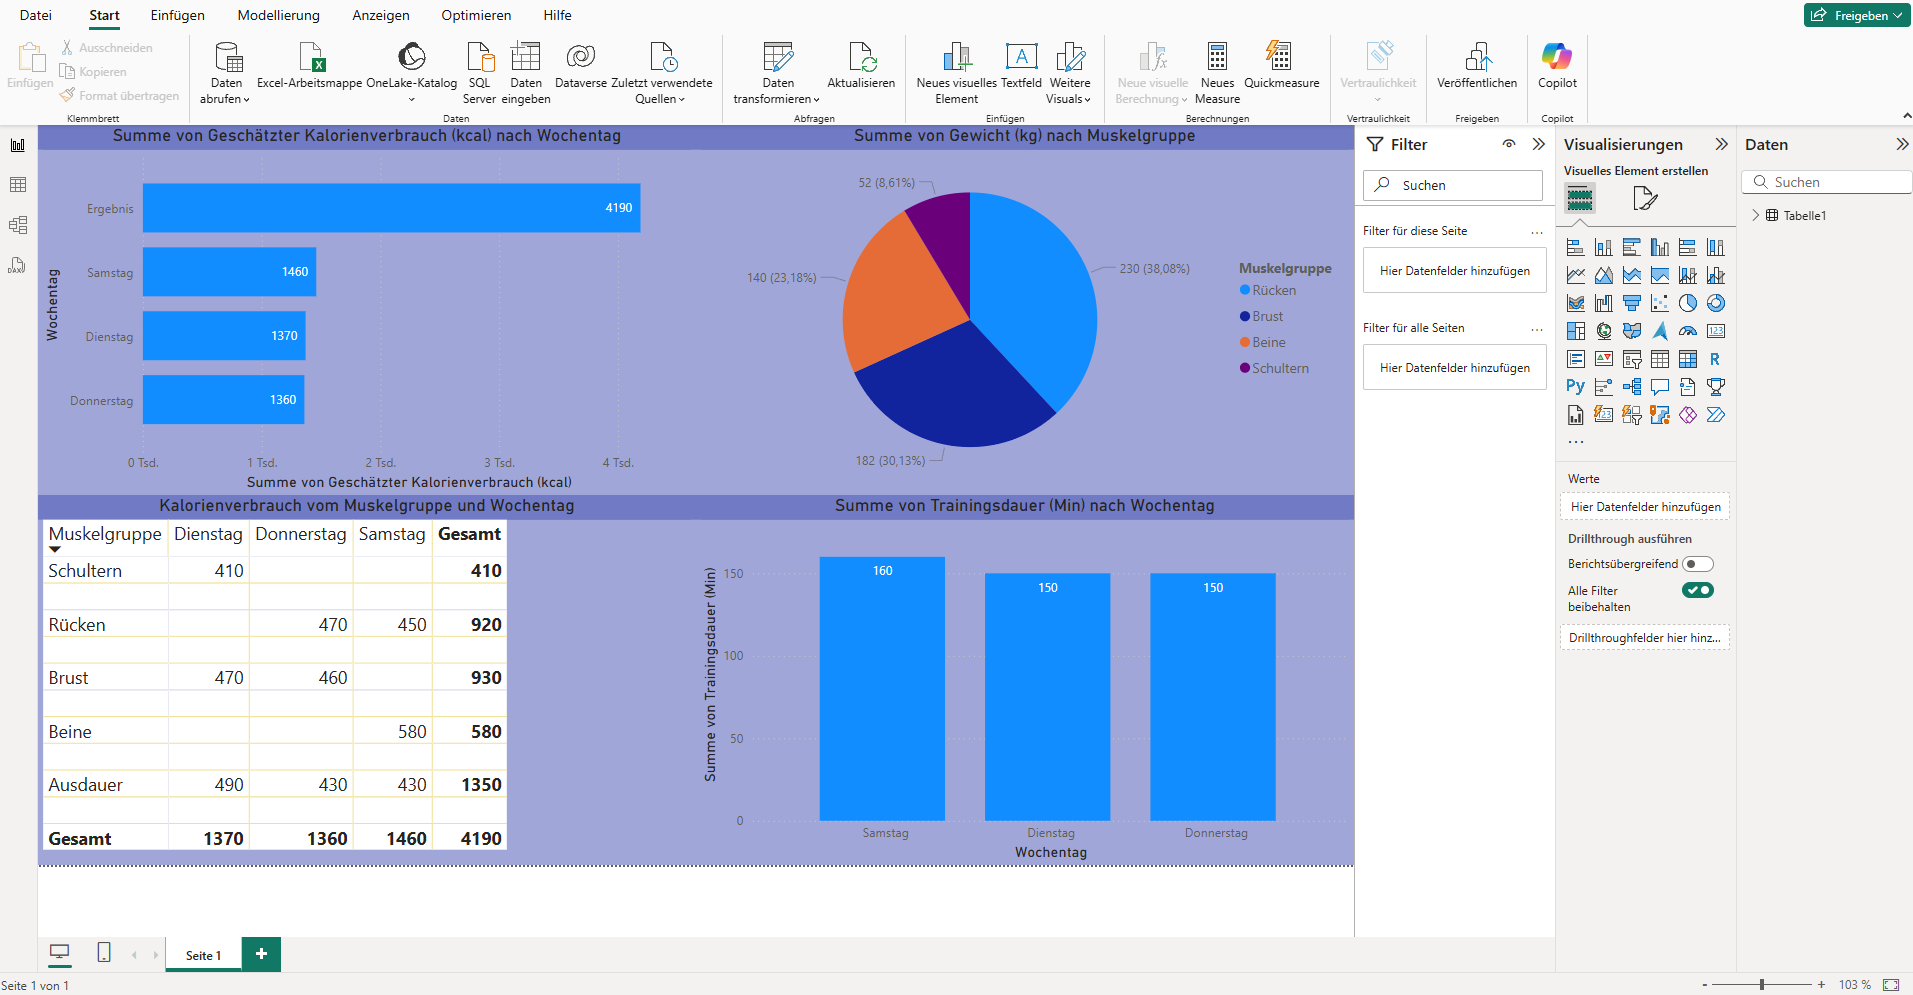

What the dashboard file says about the page in this screenshot:
{"tool":"powerbi","page":{"name":"Seite 1","canvas":[1280,720],"ordinal":0},"visuals":[{"type":"barChart","fields":{"Category":["Tabelle1.Wochentag"],"Y":["Sum(Tabelle1.Geschätzter Kalorienverbrauch (kcal))"]},"box":[0,0,640,359.9],"z":0},{"type":"pieChart","fields":{"Y":["Sum(Tabelle1.Gewicht (kg))"],"Category":["Tabelle1.Muskelgruppe"]},"box":[640,0,640,359.9],"z":1000},{"type":"pivotTable","title":"Kalorienverbrauch vom Muskelgruppe und Wochentag","fields":{"Rows":["Tabelle1.Muskelgruppe"],"Columns":["Tabelle1.Wochentag"],"Values":["Sum(Tabelle1.Geschätzter Kalorienverbrauch (kcal))"]},"box":[0,359.9,640,359.9],"z":2000},{"type":"columnChart","fields":{"Y":["Sum(Tabelle1.Trainingsdauer (Min))"],"Category":["Tabelle1.Wochentag"]},"box":[640,359.9,640,359.9],"z":3000}]}

Visuals, with their boxes on the page's 1280x720 design canvas (x1, y1, x2, y2). These are canvas units, not pixel positions in the 1913x995 screenshot, which may show the page scaled, cropped or inside an application window:
barChart - Tabelle1.Wochentag x Sum(Tabelle1.Geschätzter Kalorienverbrauch (kcal)): bbox(0, 0, 640, 360)
pieChart - Sum(Tabelle1.Gewicht (kg)) x Tabelle1.Muskelgruppe: bbox(640, 0, 1280, 360)
"Kalorienverbrauch vom Muskelgruppe und Wochentag" pivotTable: bbox(0, 360, 640, 720)
columnChart - Sum(Tabelle1.Trainingsdauer (Min)) x Tabelle1.Wochentag: bbox(640, 360, 1280, 720)
